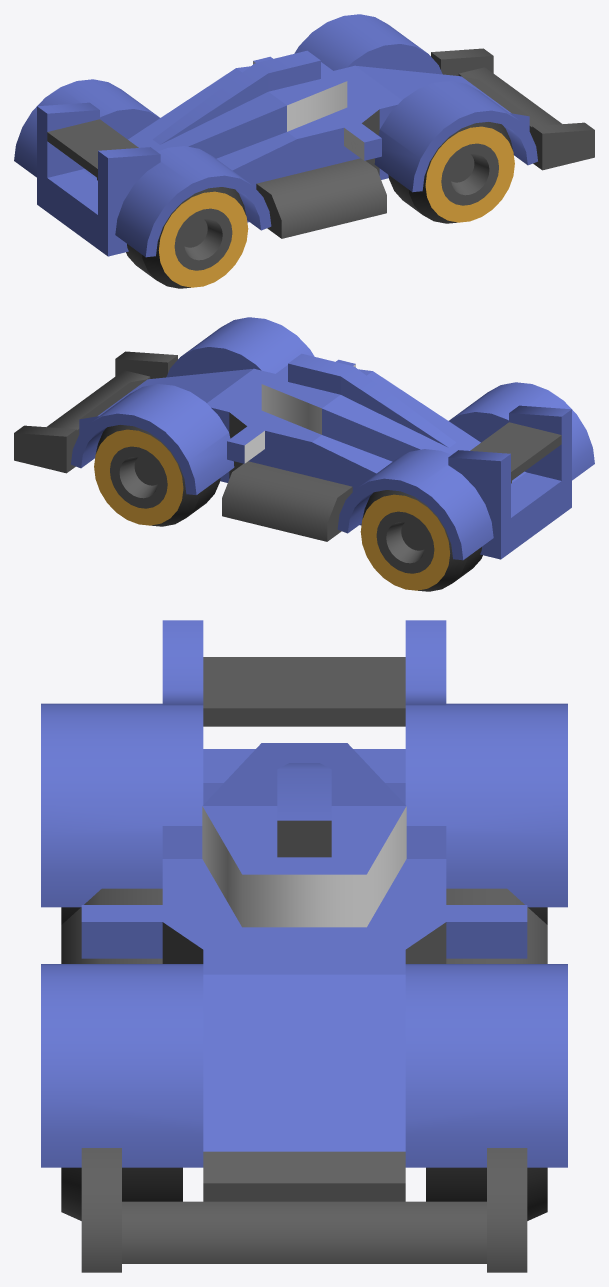
File: raceFuture.glb
The picture shows the model from 3 angles, top to bottom: view 1: azimuth 30°, elevation 25°; view 2: azimuth 150°, elevation 25°; view 3: azimuth 270°, elevation 25°; orthographic projection. The views are drawn at different scales.
Parts seen in each view (by area): view 1: body, wheel_frontRight, wheel_backRight; view 2: body, wheel_frontLeft, wheel_backLeft; view 3: body, wheel_frontLeft, wheel_frontRight.
Part boxes in pixels (x1=…): body: x1=14, y1=14, x2=594, y2=257; wheel_frontRight: x1=388, y1=122, x2=514, y2=223; wheel_backRight: x1=126, y1=187, x2=248, y2=288; body: x1=14, y1=317, x2=594, y2=560; wheel_frontLeft: x1=94, y1=425, x2=220, y2=526; wheel_backLeft: x1=360, y1=490, x2=482, y2=591; body: x1=41, y1=620, x2=567, y2=1272; wheel_frontLeft: x1=426, y1=1167, x2=547, y2=1220; wheel_frontRight: x1=61, y1=1167, x2=182, y2=1220.
Size of the model in its own units: 2.66 by 0.8325 by 1.3.
